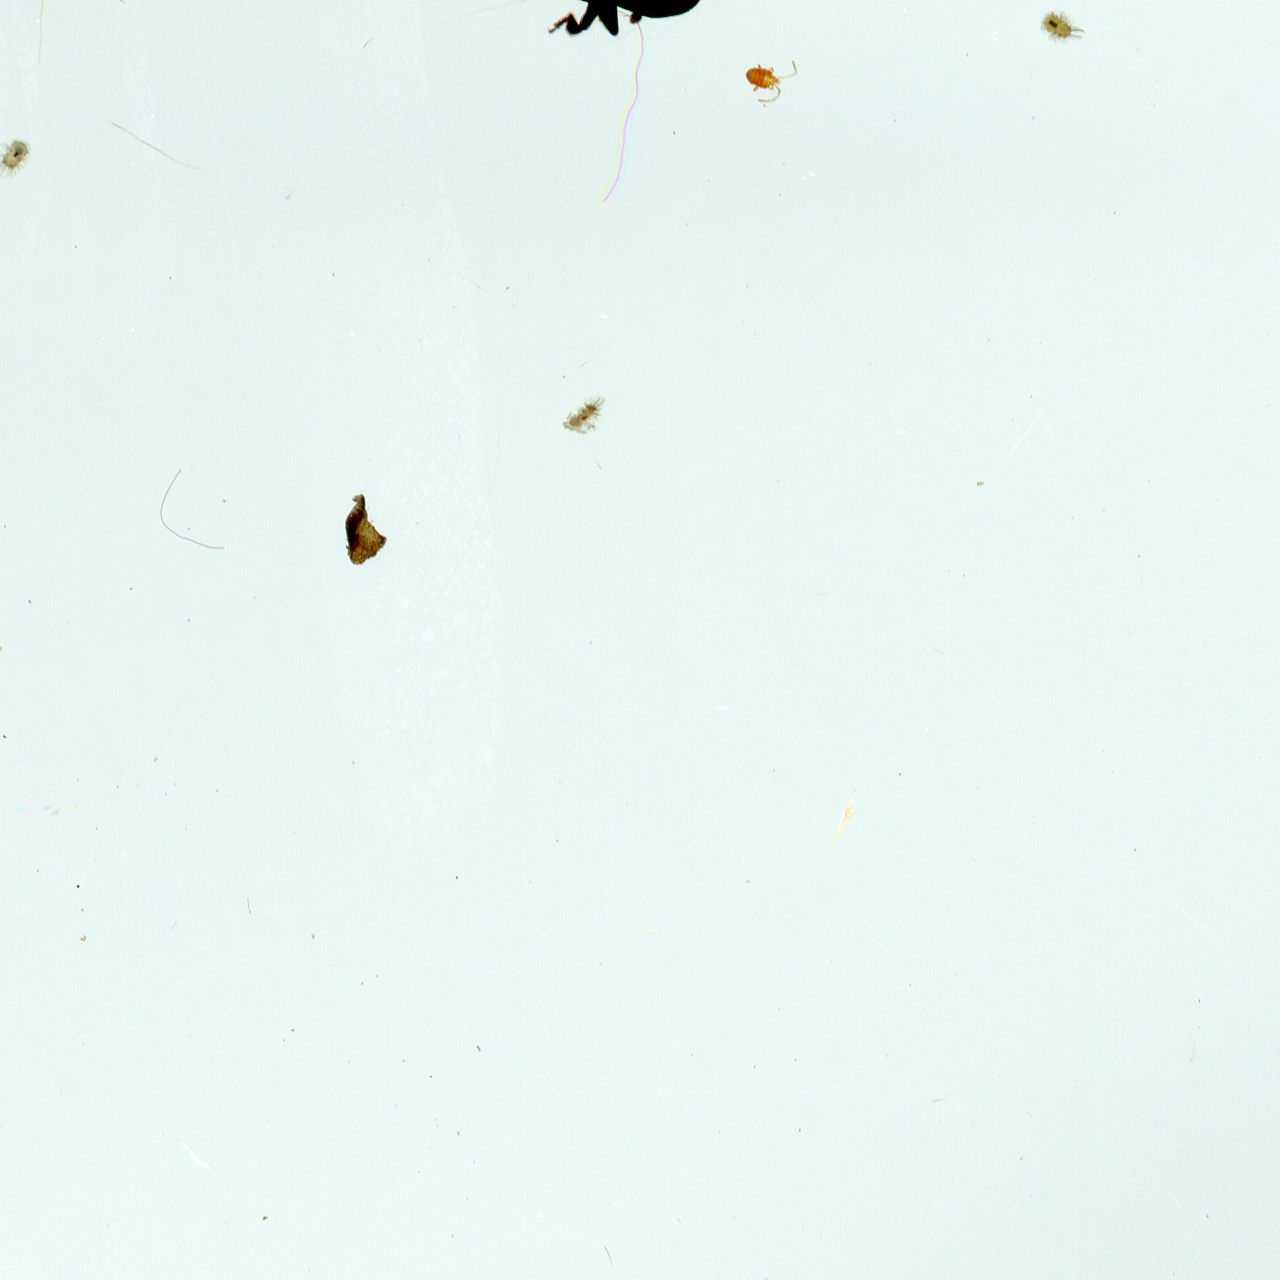arthropod: (450, 0, 706, 36), (743, 57, 801, 107), (556, 394, 611, 436), (1039, 8, 1085, 45), (0, 136, 28, 170)
